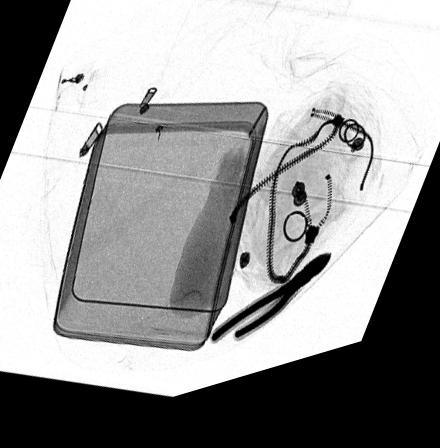Pliers: (210, 270, 332, 353)
